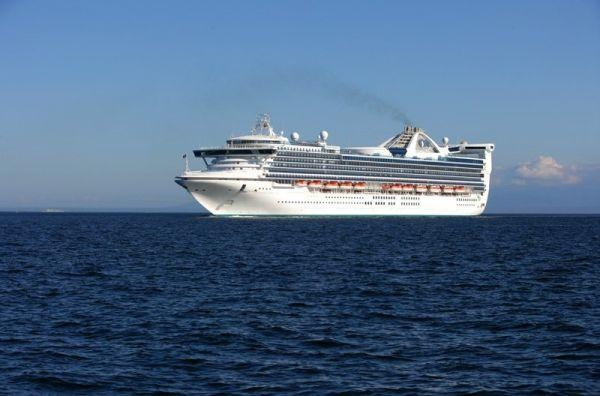youlun: (172, 111, 499, 220)
